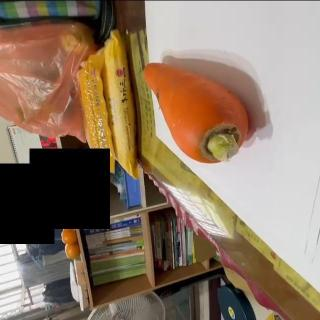carrot: (142, 63, 250, 163)
